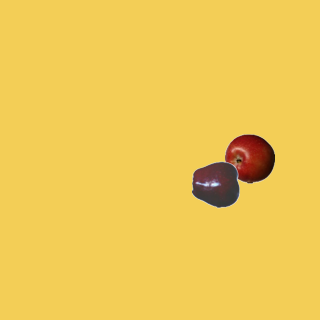Apple Braeburn: (224, 133, 274, 183)
Apple Red Delicious: (191, 159, 241, 209)
